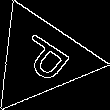P_SE: (7, 28, 75, 88)
